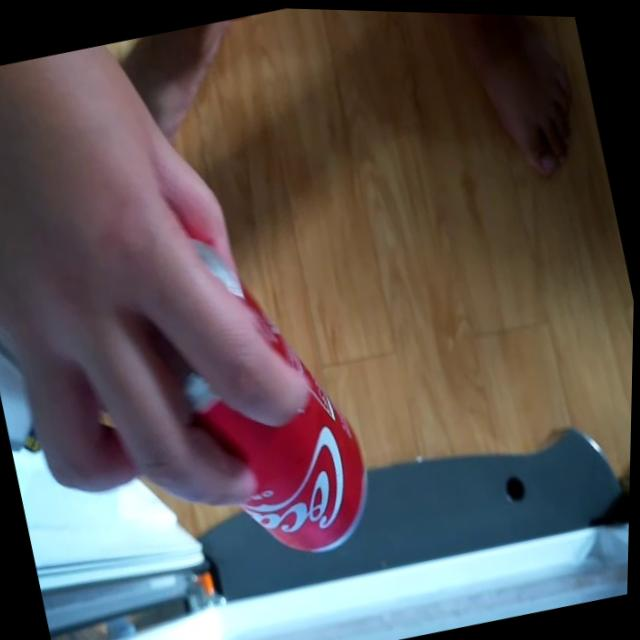coke: (130, 213, 398, 587)
